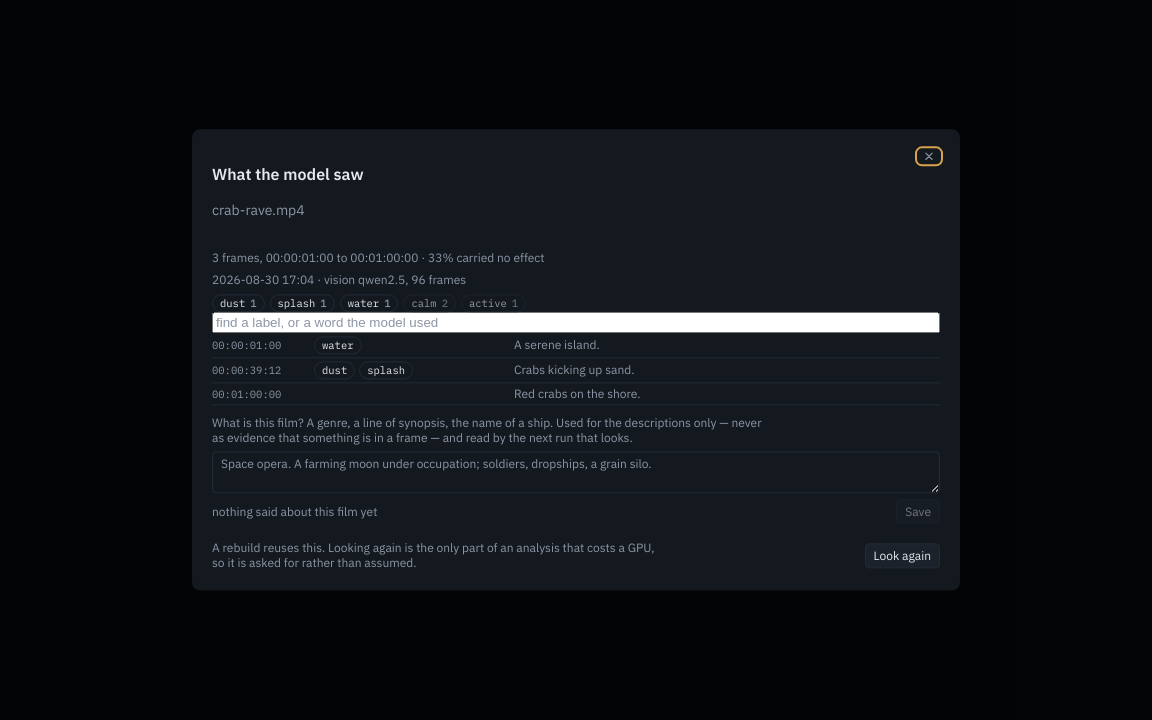
Scenario: telling the model what the film is › says it is unsaved, and what saving it will do
Replace the text in the text box with "Space opera." at (576, 473), box top-left (212, 452), bottom-right (940, 494)
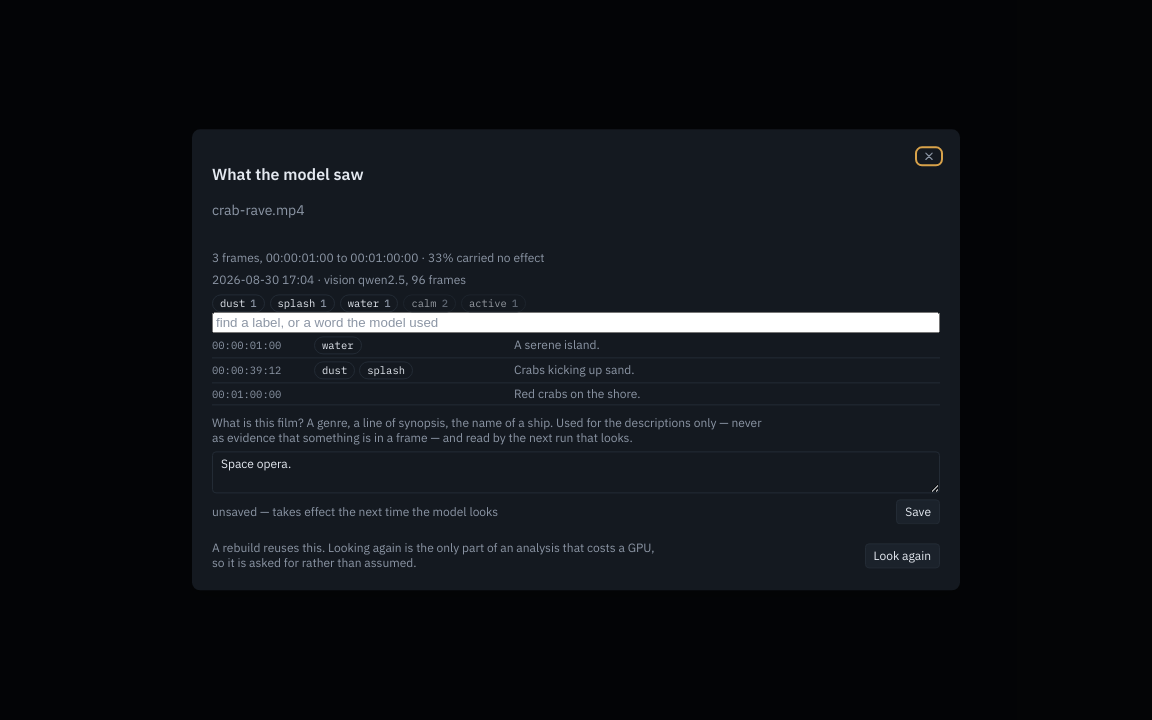
Now the text "next time the model looks" is shown, box top-left (212, 505), bottom-right (498, 520)
Now the button "Save" is enabled, box top-left (896, 500), bottom-right (940, 525)
